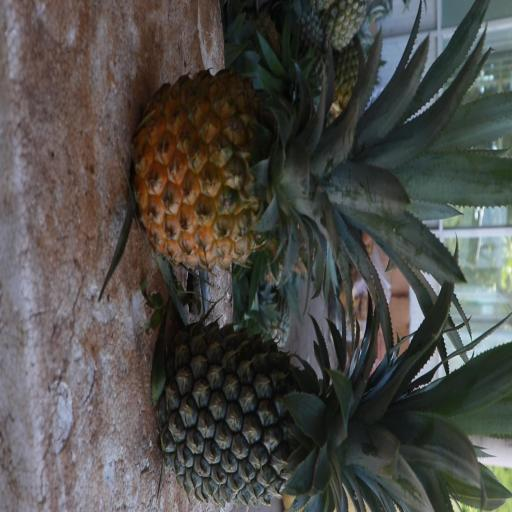Pineapple - v8 v1: (136, 81, 455, 273)
